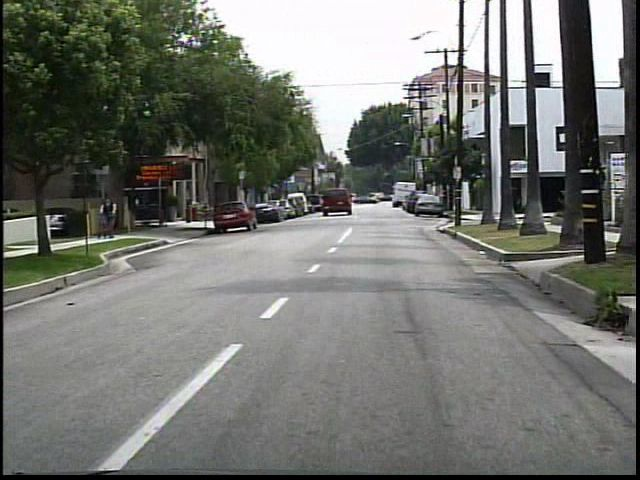person: (94, 193, 120, 242)
